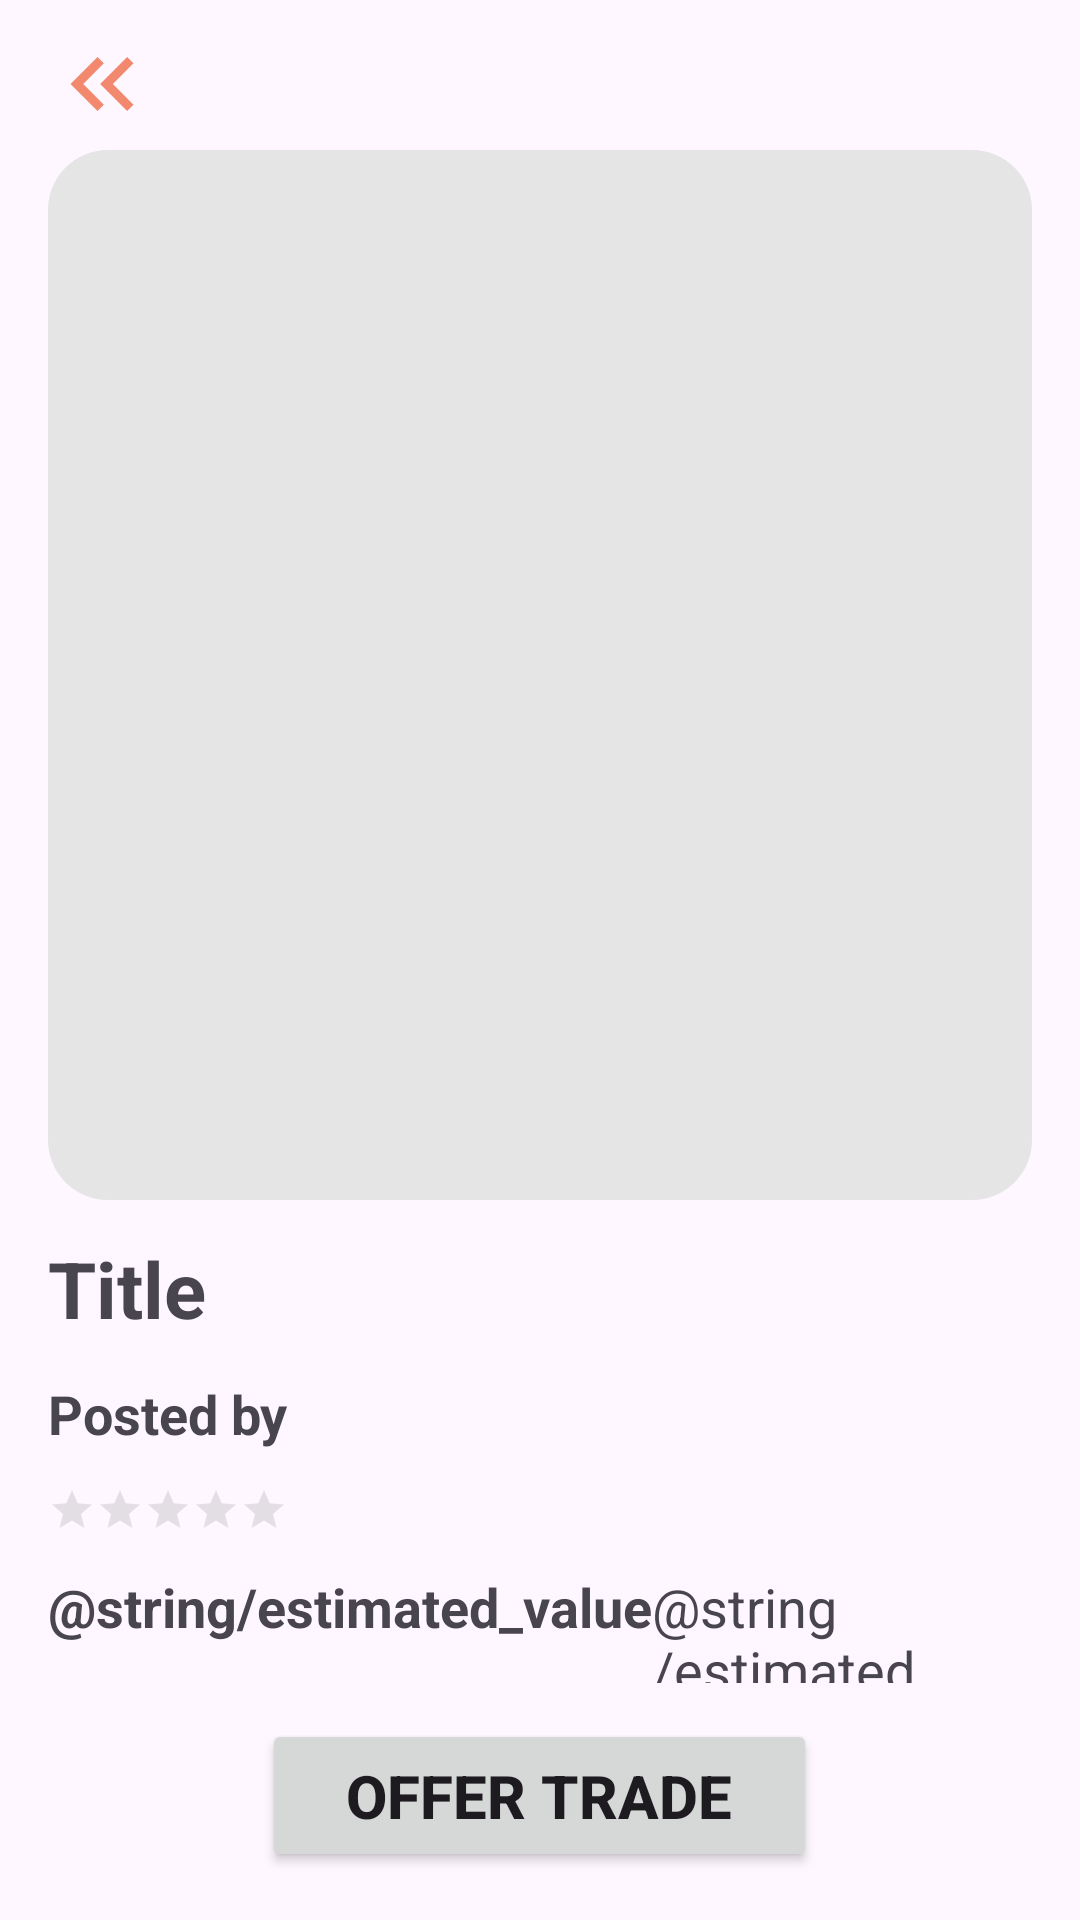

Named icons in this screenshot (1080x1920) and their bounding boxes, (x1, y1, x2, y2):
keyboard double arrow left: (71, 57, 134, 111)
